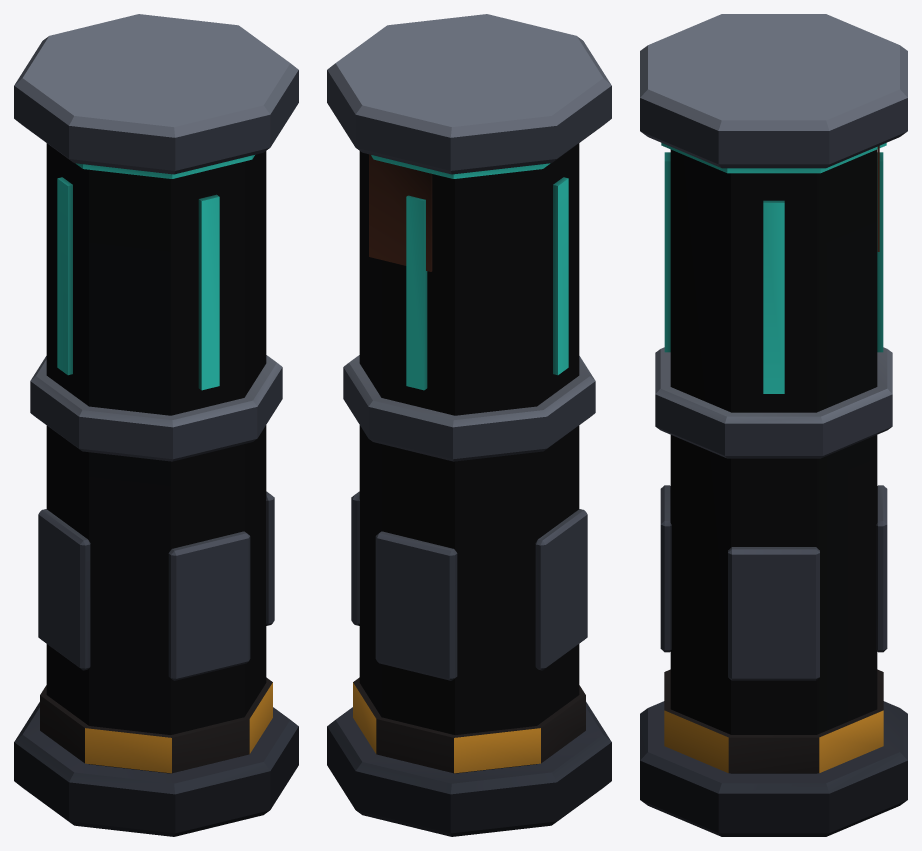
Rendered from Pillar.fbx.
3 renders of one model, left to right at view 1: azimuth 30°, elevation 25°; view 2: azimuth 150°, elevation 25°; view 3: azimuth 270°, elevation 25°, orthographic.
Visible parts, largest first — view 1: Body, Ring_Glow; view 2: Body, Ring_Glow; view 3: Body, Ring_Glow.
Boxes of the visible parts, <box> form: Body: <box>14,14,298,836</box>; Ring_Glow: <box>57,155,254,390</box>; Body: <box>327,14,611,836</box>; Ring_Glow: <box>371,155,568,390</box>; Body: <box>640,14,907,836</box>; Ring_Glow: <box>661,143,886,393</box>.
Bounding box in the file's own units: 4.07 × 12 × 4.07.
